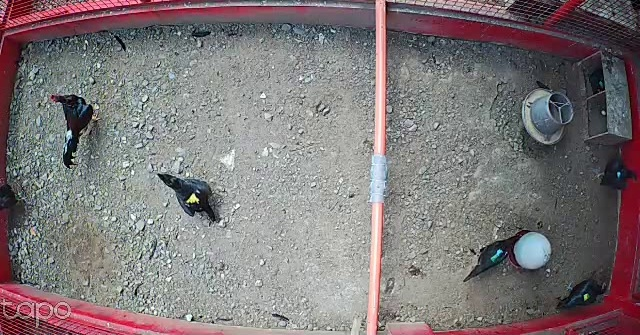Chicken: (153, 165, 220, 222), (460, 232, 524, 283), (553, 277, 610, 315), (593, 154, 638, 192)
Rooster: (49, 84, 106, 172)
Saddle_Color_Blue: (617, 171, 621, 177)
Saddle_Color_Yellow: (186, 192, 201, 206)
Saddle_Color_YellowGreen: (583, 292, 592, 301)
